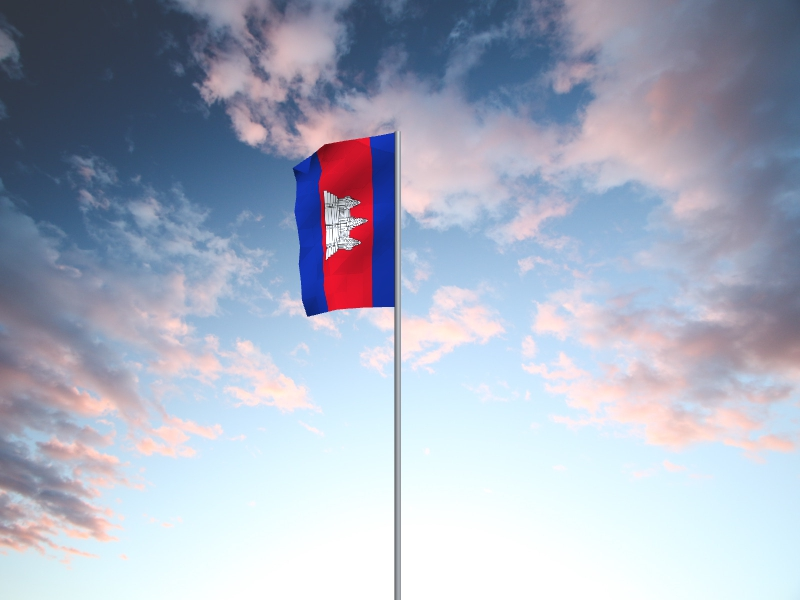kh: (292, 133, 395, 319)
